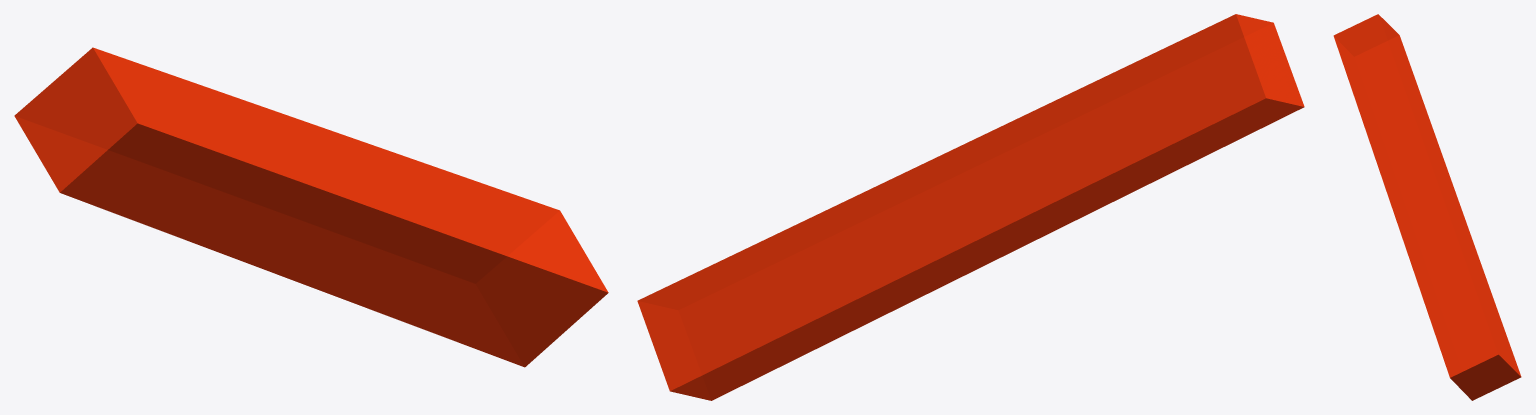
Rendered from Event_421364160_EBrechit_31.fbx.
The picture shows the model from 3 angles, left to right: view 1: azimuth 30°, elevation 25°; view 2: azimuth 150°, elevation 25°; view 3: azimuth 270°, elevation 25°; orthographic projection. The views are drawn at different scales.
Visible parts, largest first — view 1: Model; view 2: Model; view 3: Model.
Boxes of the visible parts, left/top/right/bottom form: Model: left=14, top=47, right=608, bottom=367; Model: left=637, top=14, right=1304, bottom=400; Model: left=1333, top=14, right=1521, bottom=400.
Bounding box in the file's own units: 0.4057 × 0.311 × 0.205.
